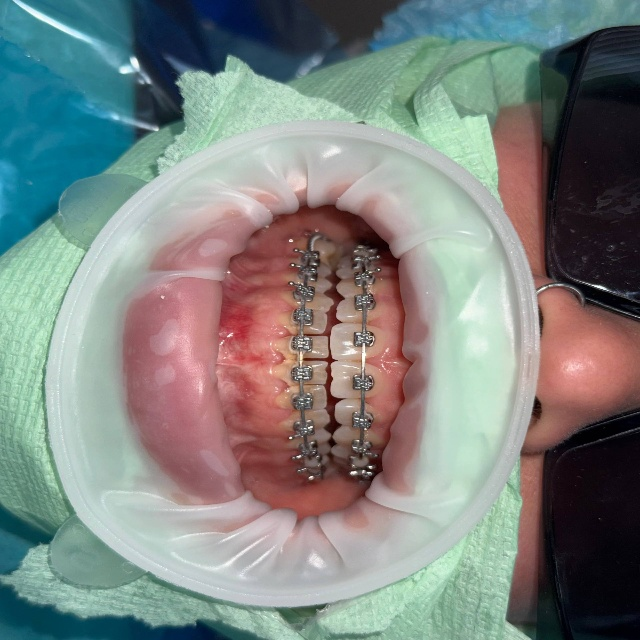clean_tooth: (282, 338, 308, 390)
plaque: (292, 0, 504, 134), (174, 0, 271, 49), (428, 624, 507, 639), (0, 51, 52, 73)
